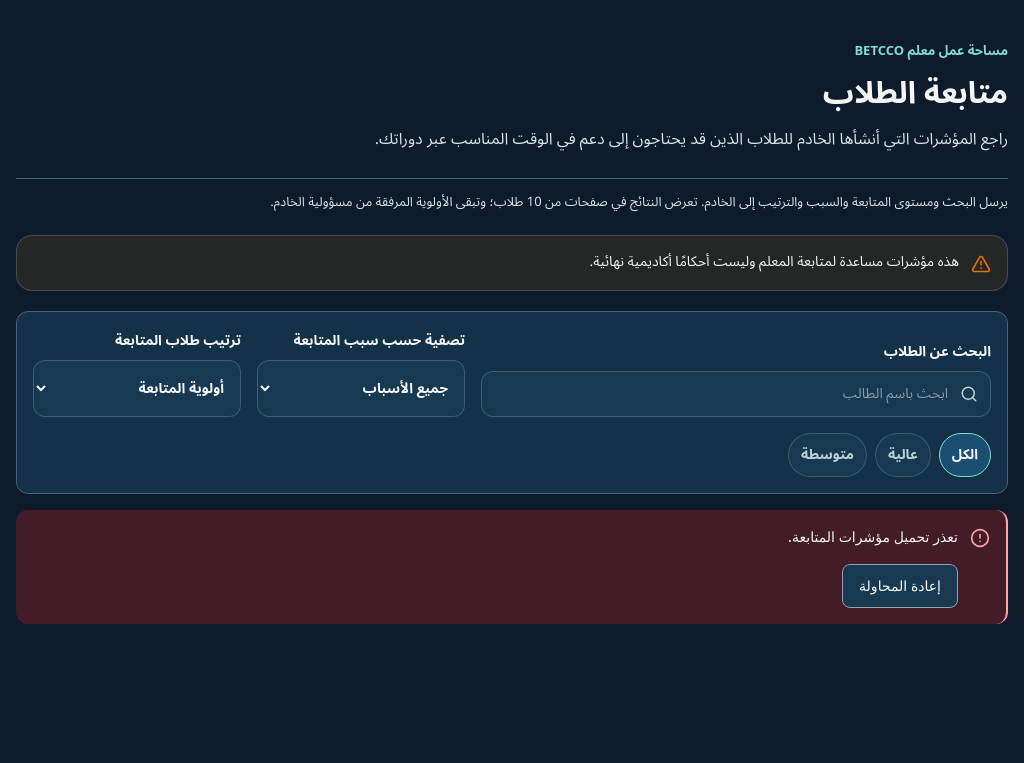
Scenario: truthful Teacher query-state adoption (ar) › keeps a cold follow-up failure separate from empty and retries the exact existing request
Expected: the message shows "تعذر تحميل مؤشرات المتابعة.", [788,528,958,545]
Step 1. Click the button "إعادة المحاولة" → (900, 586), box [842,564,958,608]
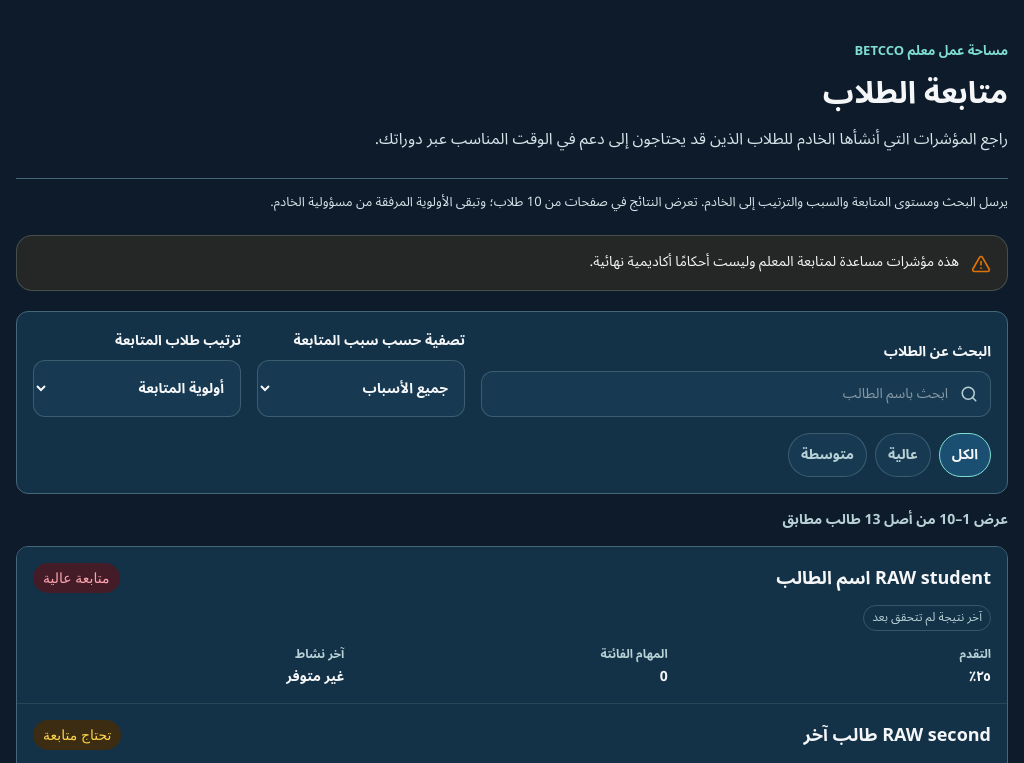
Expected: the heading "RAW student اسم الطالب" is shown, [776,563,991,593]
